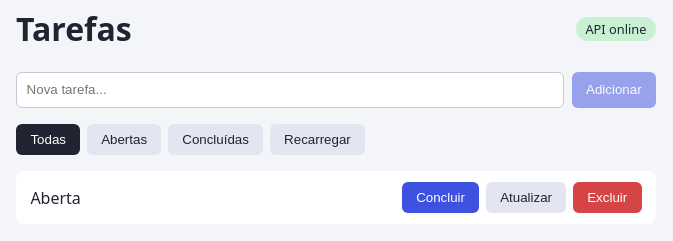
Test: App › completes a task
The image size is (673, 241).
Click the button "Concluir" at (441, 198), box [402, 182, 479, 213]
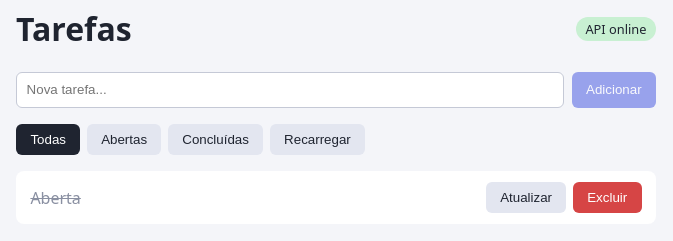
Now the button "Concluir" is gone
